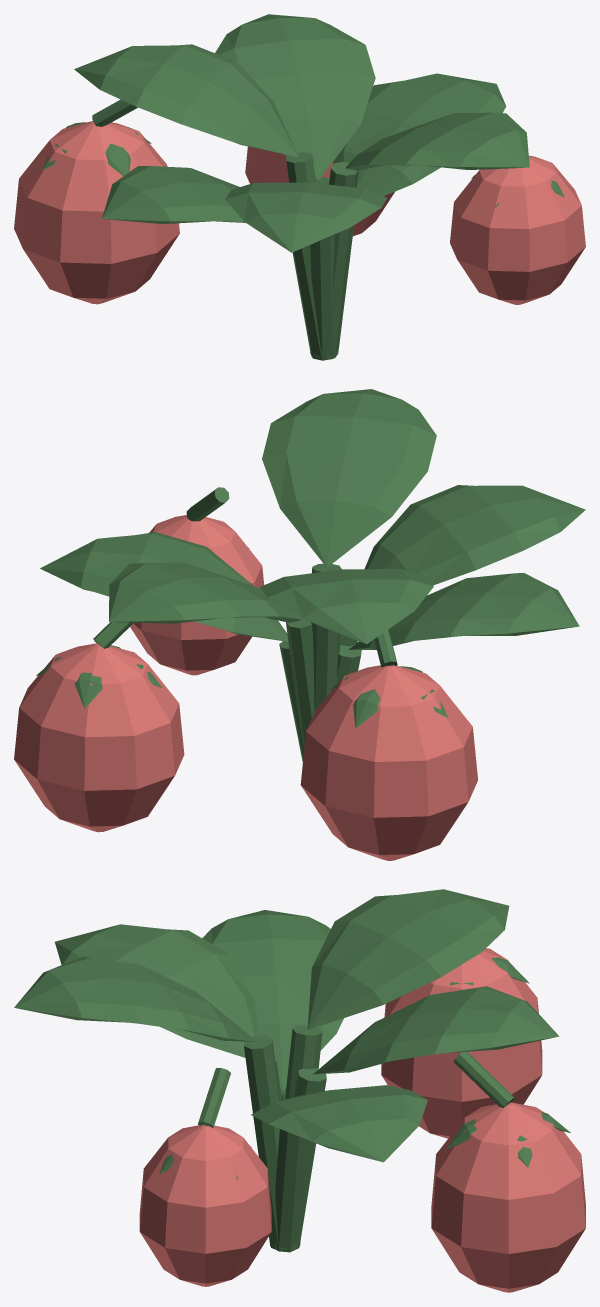
File: SM_Strawberry.fbx
3 views of the same model, one above another, from view 1: azimuth 30°, elevation 25°; view 2: azimuth 150°, elevation 25°; view 3: azimuth 270°, elevation 25° (orthographic). The views are drawn at different scales.
Parts seen in each view (by area): view 1: FoliageRoot, ReadyAccents; view 2: FoliageRoot, ReadyAccents; view 3: FoliageRoot, ReadyAccents.
Part boxes in pixels (x1,y1,x2,y2): FoliageRoot: [74, 14, 529, 360]; ReadyAccents: [14, 99, 585, 304]; FoliageRoot: [40, 389, 585, 762]; ReadyAccents: [14, 487, 477, 860]; FoliageRoot: [14, 889, 559, 1252]; ReadyAccents: [139, 948, 585, 1292].
Size of the model in its own units: 0.7749 by 0.4555 by 0.793.
